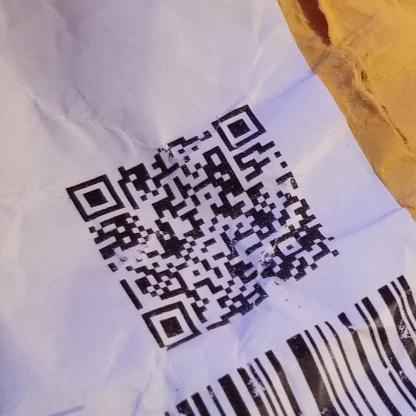barcode: (151, 271, 416, 416)
qr: (56, 102, 348, 353)
